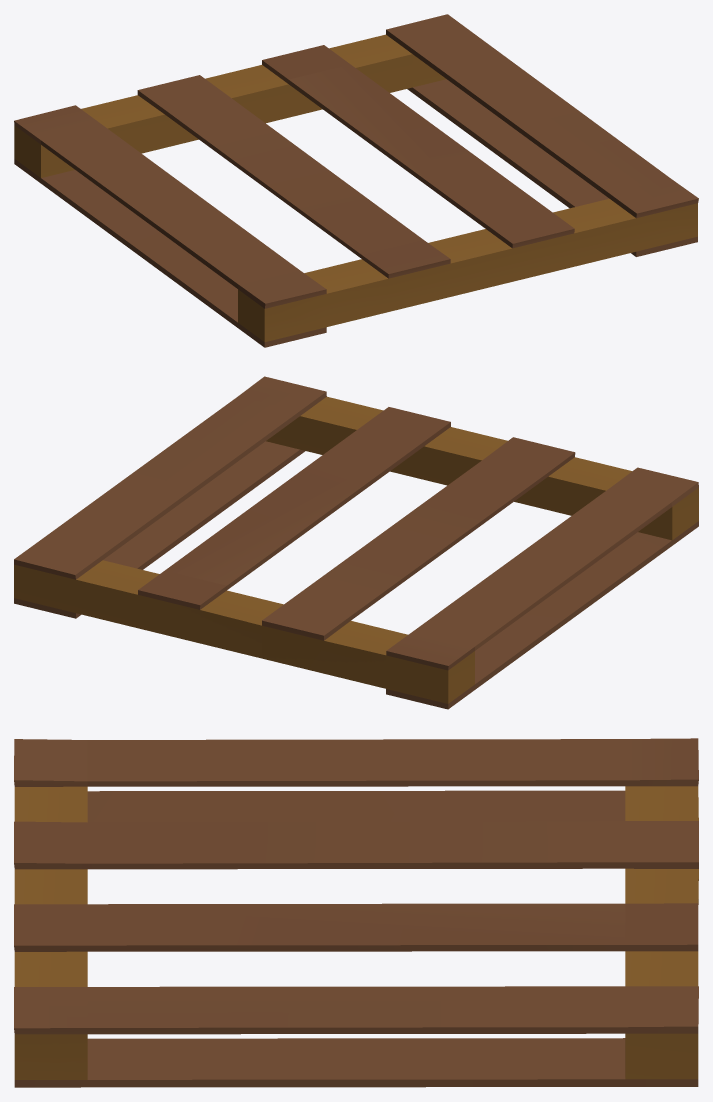
File: Small Single Pallet Dark.fbx
The picture shows the model from 3 angles, top to bottom: view 1: azimuth 30°, elevation 25°; view 2: azimuth 150°, elevation 25°; view 3: azimuth 270°, elevation 25°; orthographic projection. The views are drawn at different scales.
Parts seen in each view (by area): view 1: Single Small Pallet Dark; view 2: Single Small Pallet Dark; view 3: Single Small Pallet Dark.
Part boxes in pixels (bbox=[...]): Single Small Pallet Dark: bbox=[14, 14, 698, 347]; Single Small Pallet Dark: bbox=[14, 376, 698, 709]; Single Small Pallet Dark: bbox=[14, 738, 698, 1087].
Bounding box in the file's own units: 24.3 × 247 × 247.
1 material, 1 textured.
